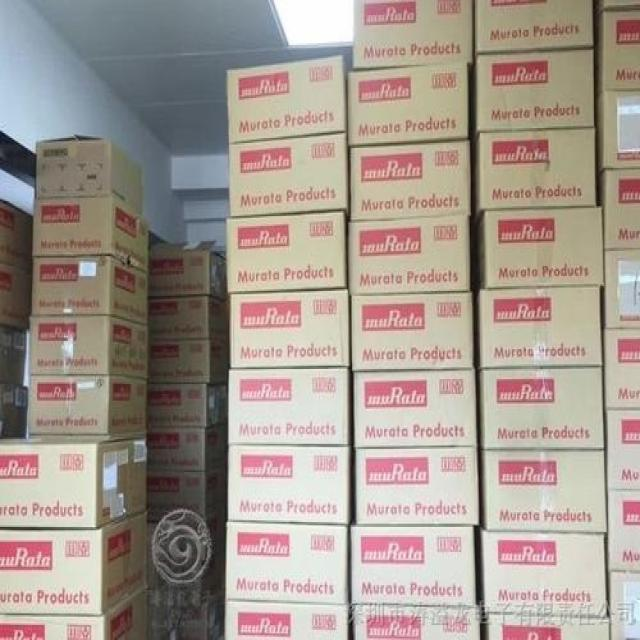box: (0, 512, 147, 617), (0, 436, 147, 530), (481, 530, 607, 618), (225, 55, 348, 145), (347, 213, 470, 299), (351, 524, 477, 607), (347, 63, 470, 148), (227, 522, 349, 607), (476, 288, 603, 369), (476, 48, 594, 135), (349, 140, 472, 223), (225, 211, 348, 294), (484, 449, 607, 530), (229, 133, 349, 216), (480, 369, 604, 449), (353, 447, 480, 525), (352, 291, 474, 372), (485, 208, 603, 291), (227, 369, 351, 446), (227, 447, 351, 524), (481, 128, 596, 211), (355, 372, 479, 447), (229, 291, 349, 367), (32, 199, 150, 274), (353, 0, 476, 71), (35, 135, 142, 216), (31, 254, 148, 324), (0, 587, 148, 640), (29, 316, 147, 379), (26, 376, 147, 432), (475, 0, 593, 53), (353, 603, 481, 640), (225, 602, 348, 640), (148, 241, 227, 299), (146, 470, 227, 522), (147, 422, 228, 470), (595, 90, 640, 171), (595, 10, 640, 91), (147, 382, 228, 427), (147, 339, 227, 384), (148, 298, 228, 342), (486, 613, 609, 640), (603, 327, 640, 412), (603, 249, 640, 331), (604, 168, 640, 249), (605, 409, 640, 492), (608, 490, 640, 570), (0, 199, 32, 269), (0, 263, 32, 332), (611, 572, 640, 640)
